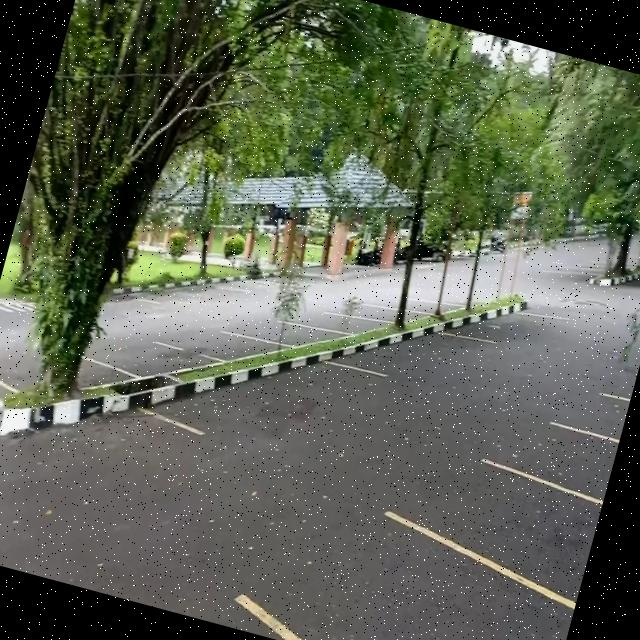empty: (349, 532, 580, 640), (446, 456, 605, 600), (208, 334, 358, 466), (380, 316, 476, 402), (546, 422, 620, 510), (102, 328, 188, 388), (180, 317, 266, 373), (590, 388, 631, 444), (272, 315, 326, 357), (318, 306, 378, 343)
